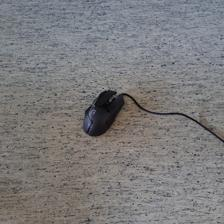mouse: (82, 89, 125, 138)
